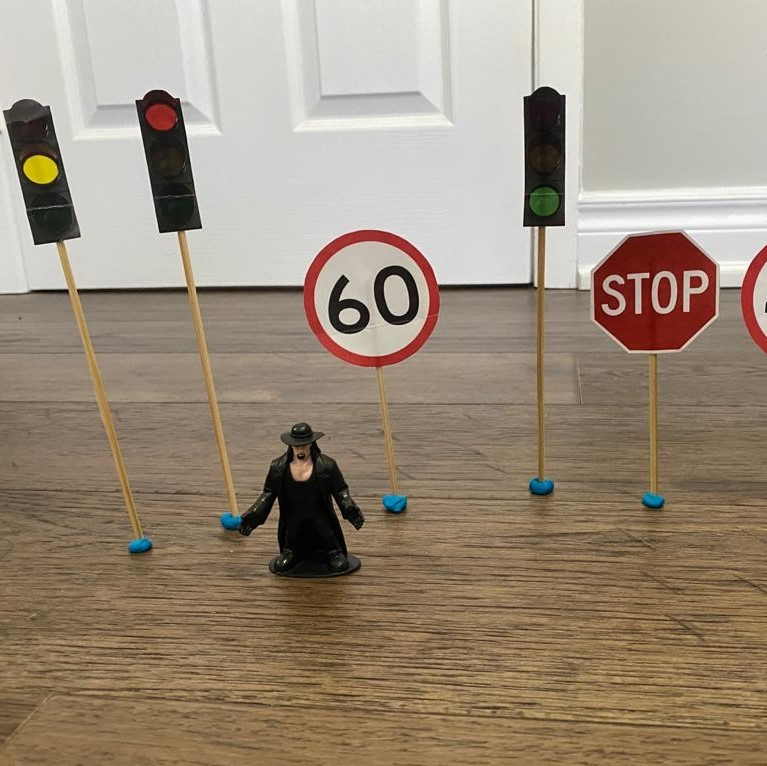Green Traffic Light: (515, 83, 573, 233)
Person: (235, 416, 374, 582)
Red Traffic Light: (132, 85, 205, 235)
Speed Limit 60: (297, 226, 444, 381)
Stop Sign: (586, 224, 722, 365)
Yellow Traffic Light: (1, 96, 88, 251)
